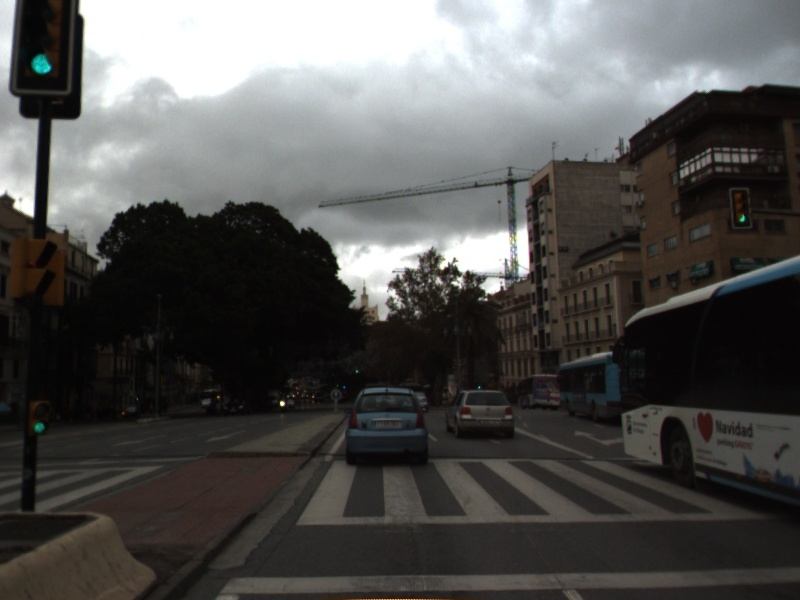STRAIGHT_RIGHT: (572, 427, 625, 448)
